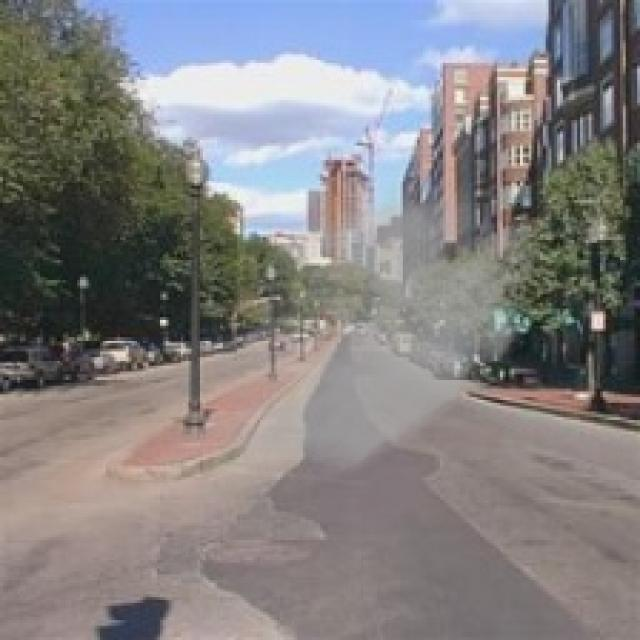Smoke: (143, 163, 552, 512)
